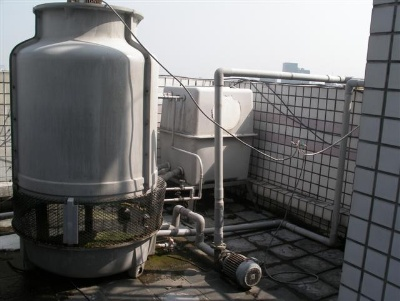water_tower: (8, 1, 167, 277)
